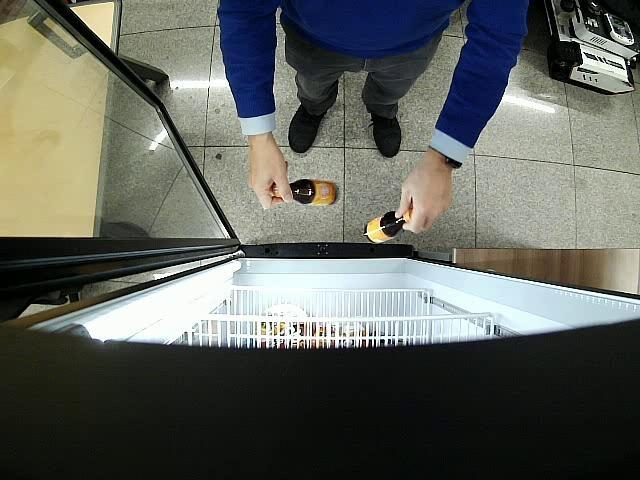17_vita500: (273, 180, 338, 206), (366, 210, 412, 244)
